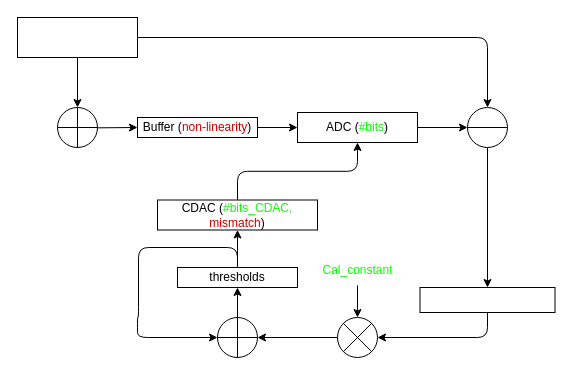
The diagram is 573 pixels wide and 375 high, and some of its shapes have lost their labels. The centre of each missing label's shape, as x and y in pixels:
"Dither ( dither size )" belongs at (x=77, y=37).
"Histograms ( cal_length )" belongs at (x=487, y=299).
